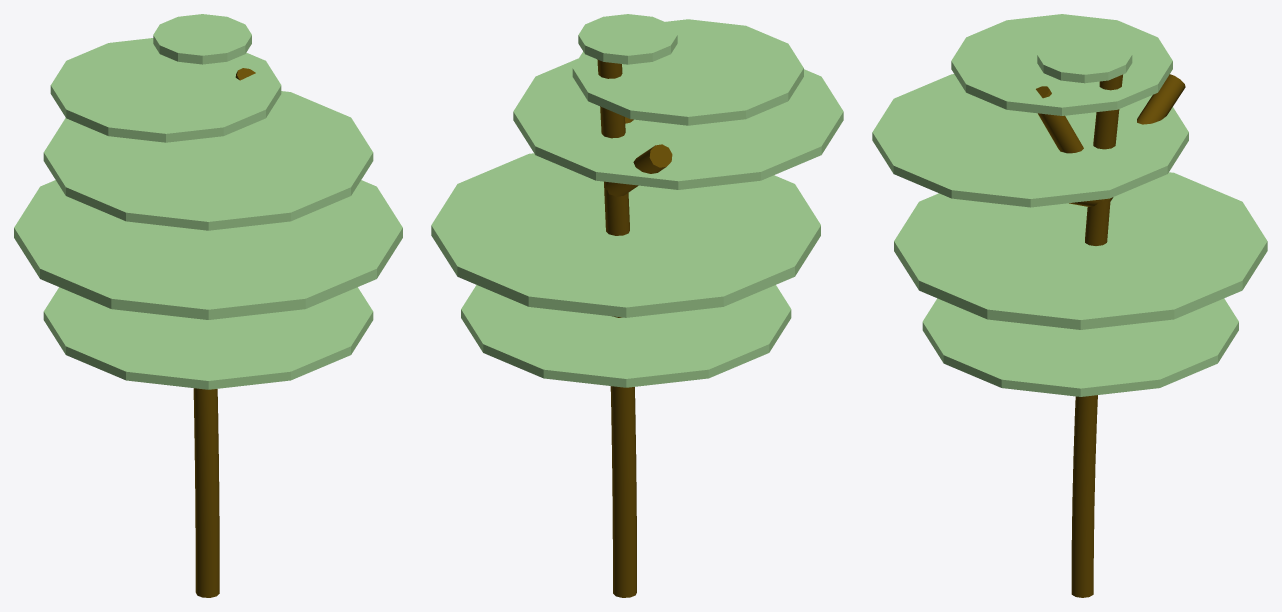
File: Tree.glb
The picture shows the model from 3 angles, left to right: view 1: azimuth 30°, elevation 25°; view 2: azimuth 150°, elevation 25°; view 3: azimuth 270°, elevation 25°; orthographic projection. The views are drawn at different scales.
Bounding box in the file's own units: 1.61 × 2.54 × 1.7.
